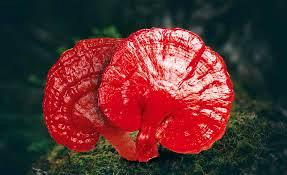Ganoderma - Fruit Body: (43, 26, 233, 163)
